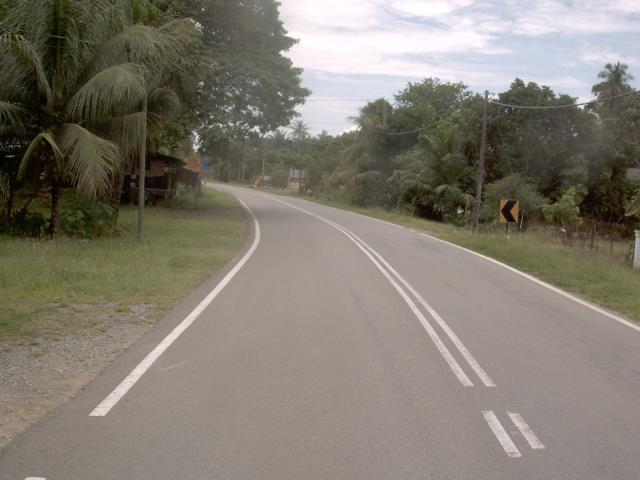traffic_sign: (494, 192, 525, 231)
